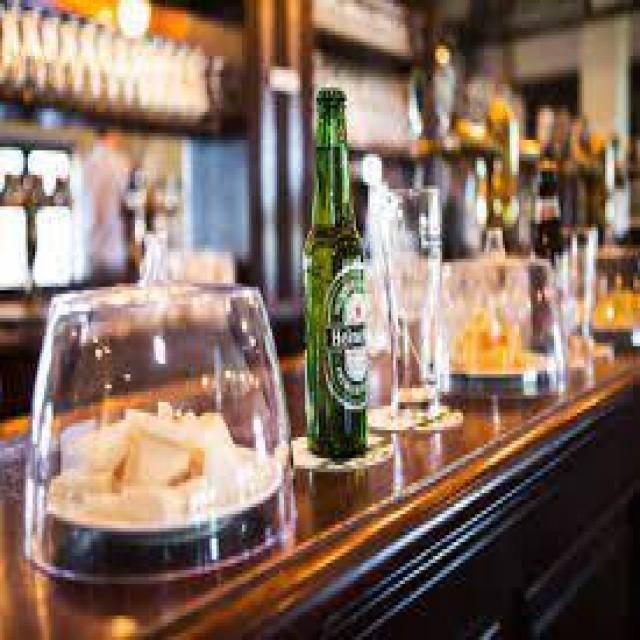beer-bottle: (288, 74, 378, 468)
